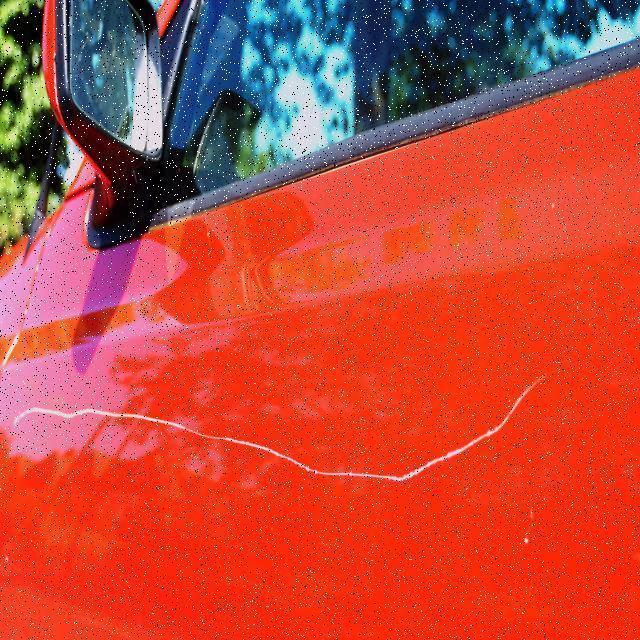doorouter-dent: (55, 111, 636, 640)
